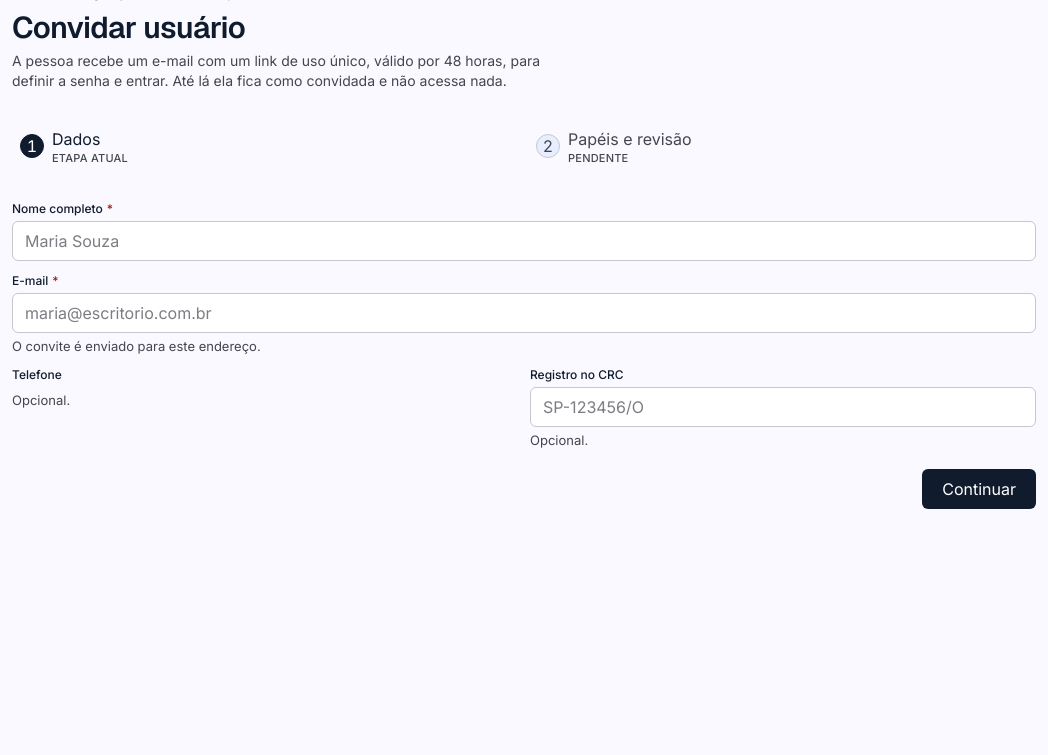
erros do servidor › e-mail em uso volta à etapa 1 com a mensagem no campo, sem revelar de quem é
In the field labelled "Nome completo*": (524, 241) [12, 221, 1036, 261], type "Ana Souza"
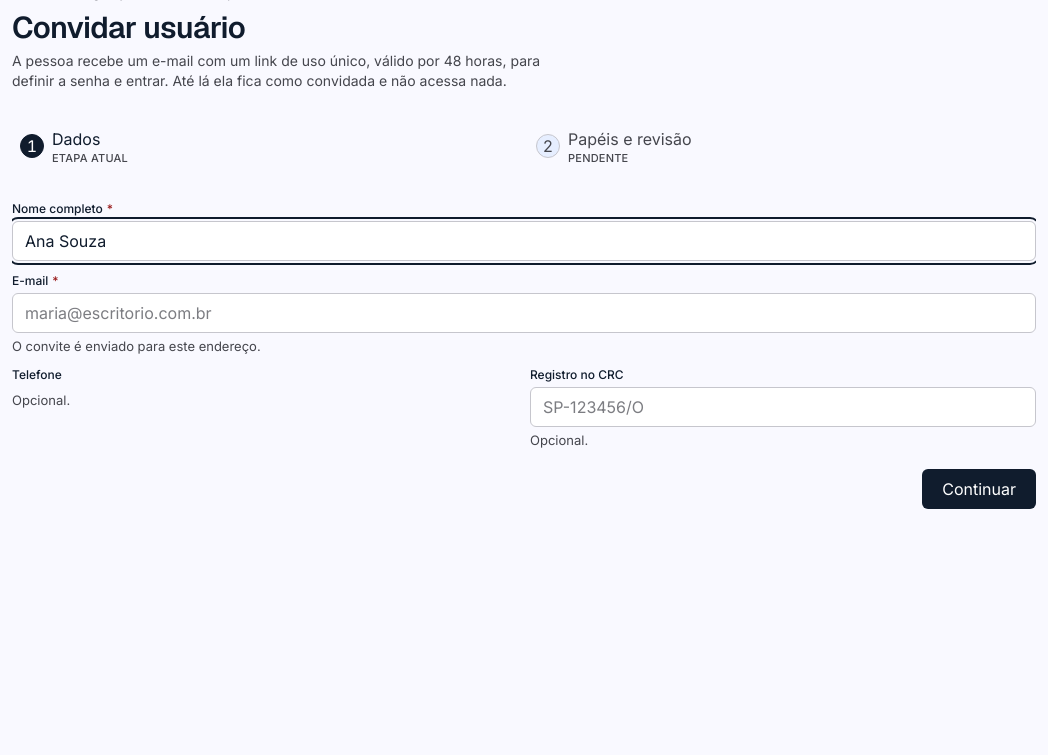
In the field labelled "E-mail*": (524, 313) [12, 293, 1036, 333], type "ana@escritorio.com"
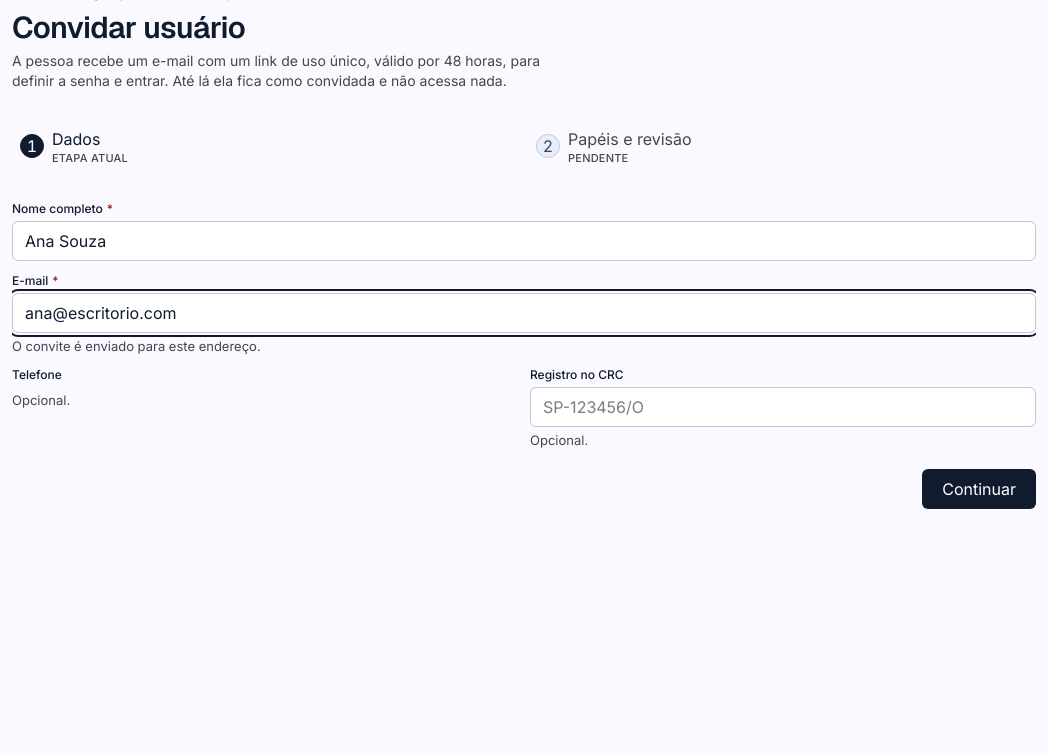
Click the button "Continuar": (979, 489) [922, 469, 1036, 509]
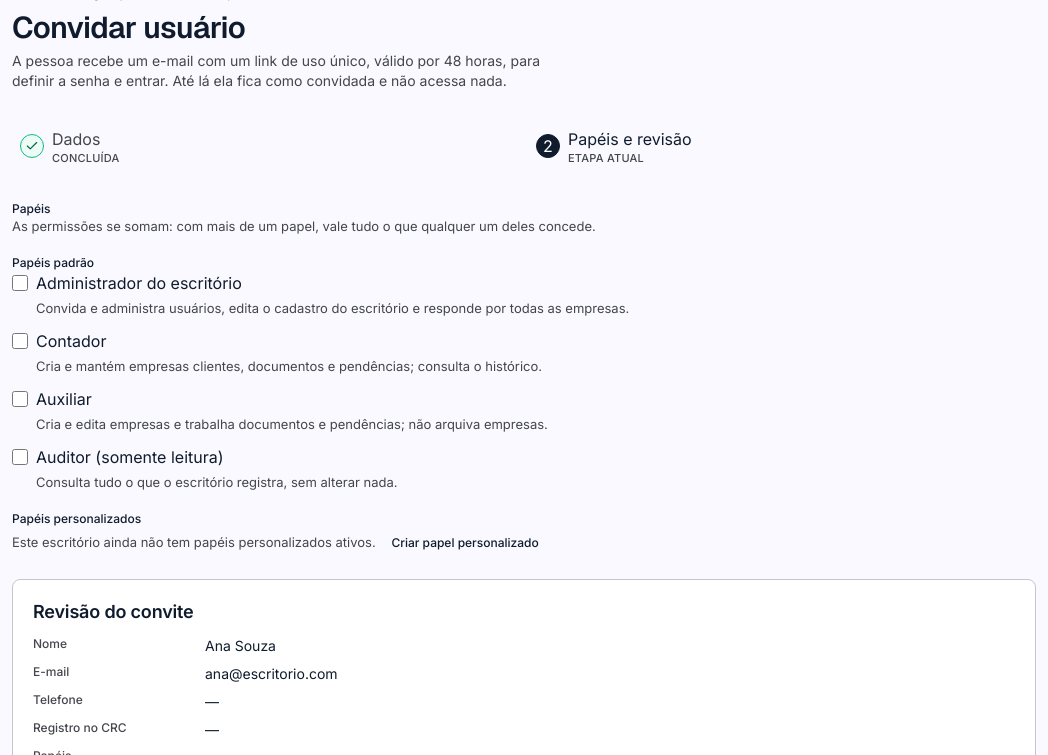
Now the element "Papéis" is shown, box [12, 201, 629, 550]
Click the checkbox labelled "Contador": (20, 341) [12, 333, 28, 349]
(page scrolled)
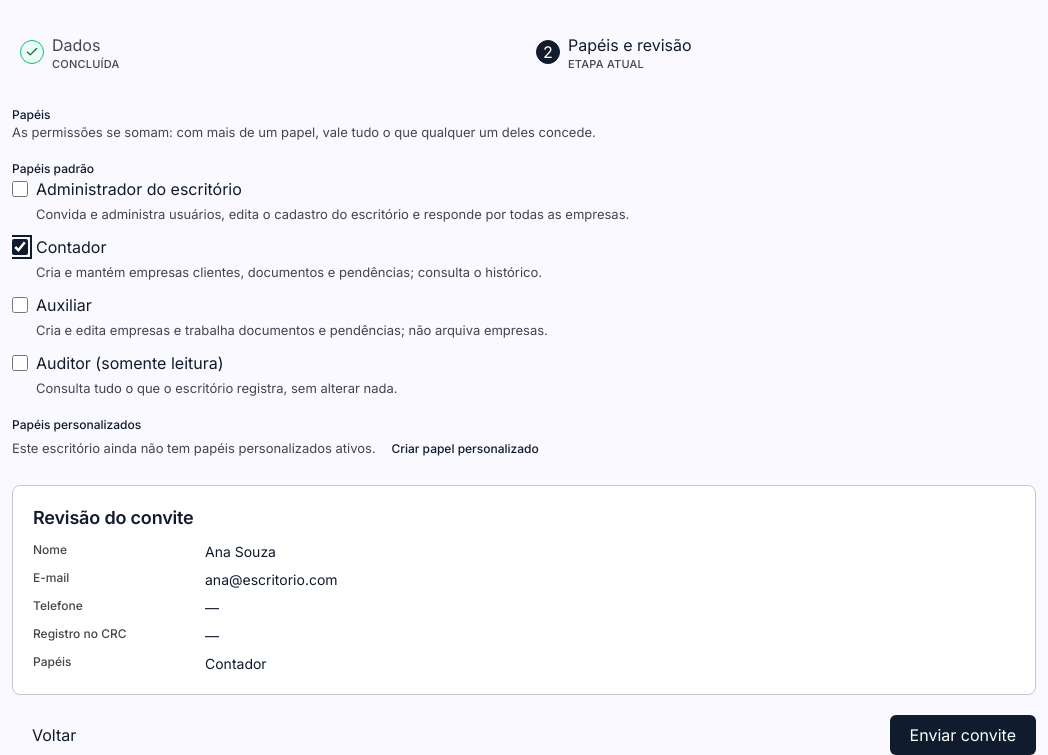
Click the button "Enviar convite": (963, 735) [890, 715, 1036, 754]
(page scrolled)
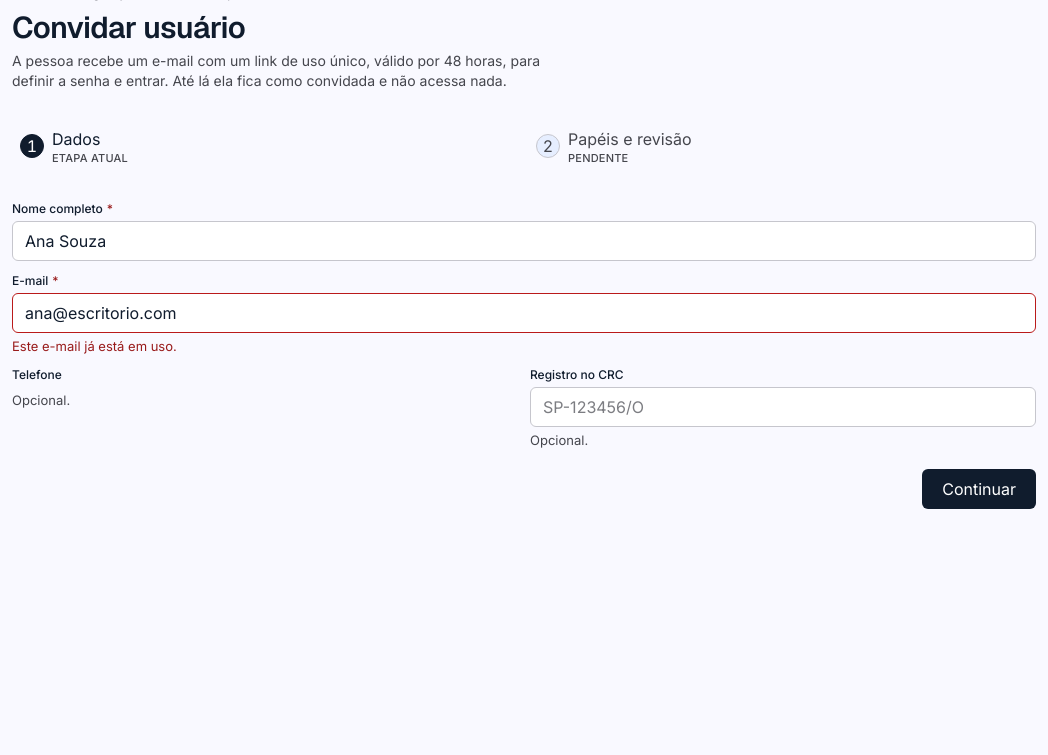
Now the text "Este e-mail já está em uso." is shown, box [12, 338, 177, 354]
